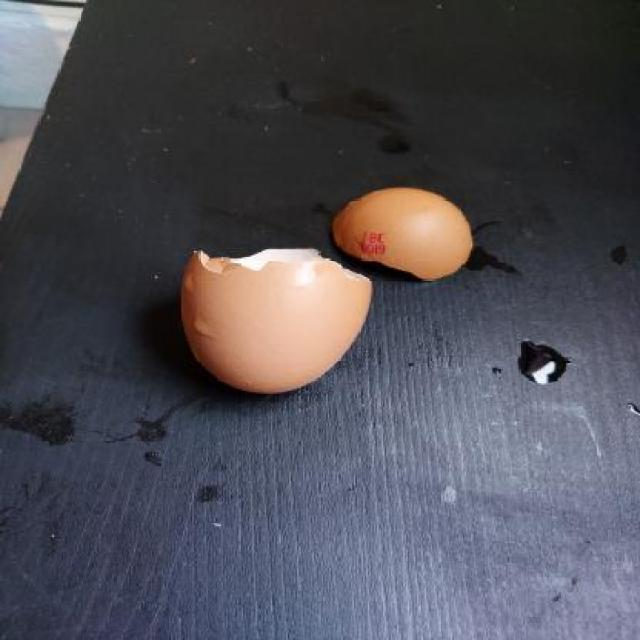biodegradable: (150, 234, 378, 400), (328, 184, 483, 288)
